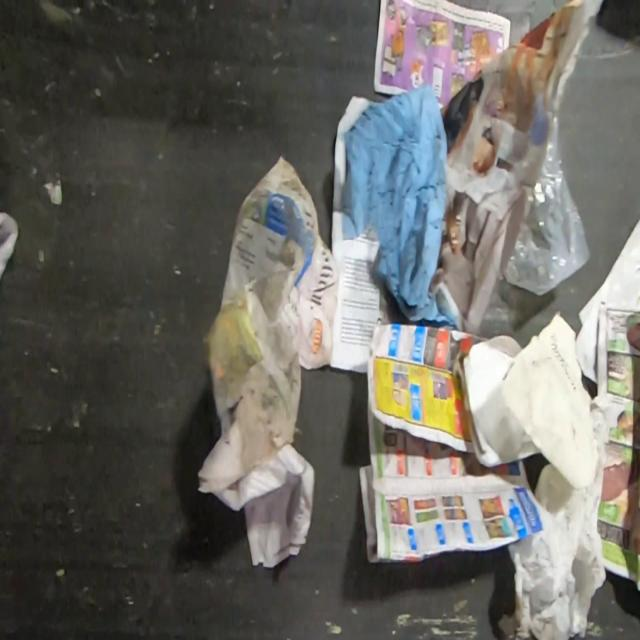cardboard: (218, 152, 340, 371), (461, 334, 542, 468)
soft_plastic: (501, 111, 594, 297), (0, 209, 19, 280)
